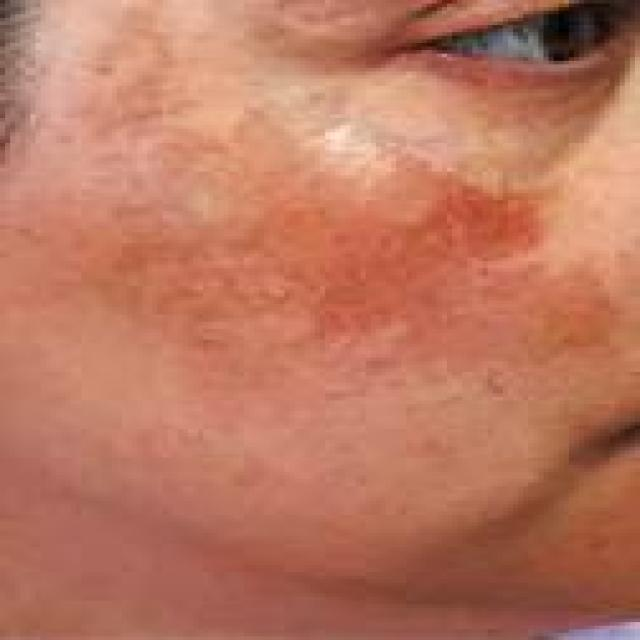pigmentation: (163, 173, 564, 329)
